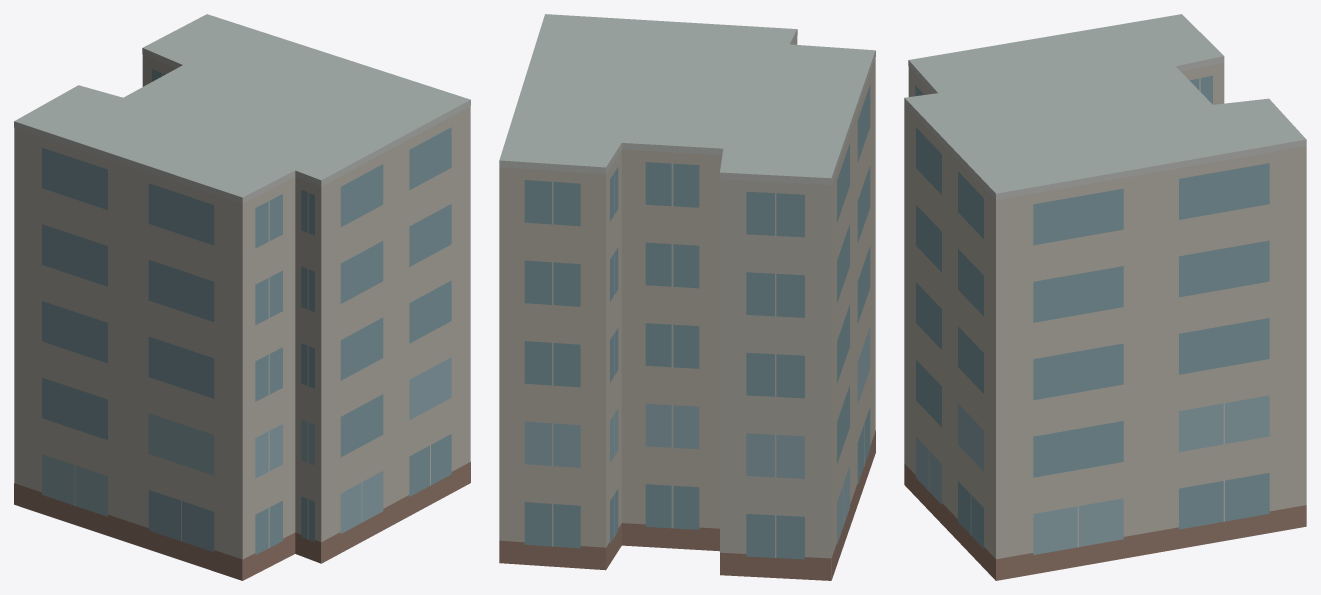
The model's file is survey-upis-32918519.glb.
3 views of the same model, side by side, from view 1: azimuth 30°, elevation 25°; view 2: azimuth 150°, elevation 25°; view 3: azimuth 270°, elevation 25° (orthographic). The views are drawn at different scales.
Visible parts, largest first — view 1: survey-upis-32918519.tmp; view 2: survey-upis-32918519.tmp; view 3: survey-upis-32918519.tmp.
Part boxes in pixels (x1,y1,x2,y2): survey-upis-32918519.tmp: (14,14,470,580); survey-upis-32918519.tmp: (499,14,875,580); survey-upis-32918519.tmp: (904,14,1306,580).
Size of the model in its own units: 14.69 by 14.75 by 13.89.
